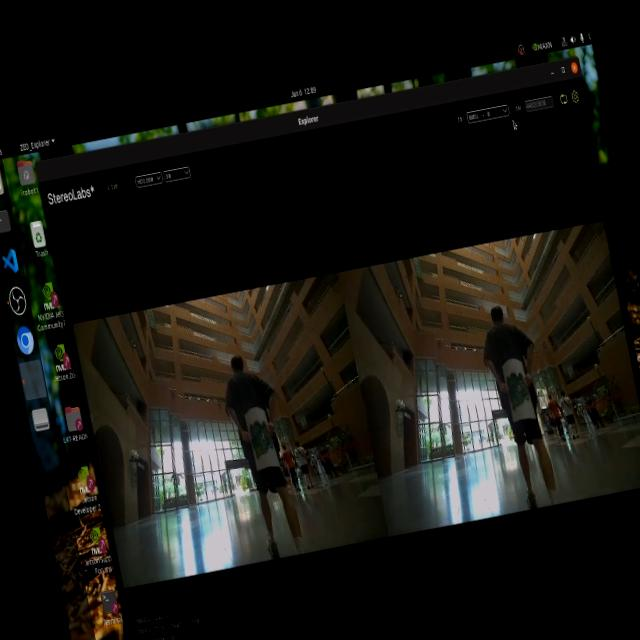green: (250, 421, 278, 458), (511, 374, 536, 414)
